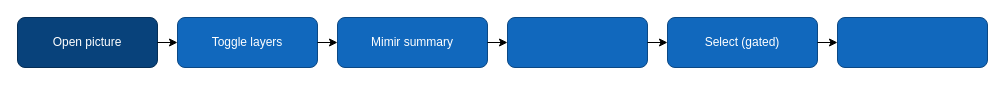
Some shapes in this 1005 by 85 pixel diagram are drawn without their labels. The shapes that lost their labels are listed below. From the top down, each one's centre as x and y in pixels, then its label:
At (577,42): "Review COAs".
At (912,42): "Sealed decision".
